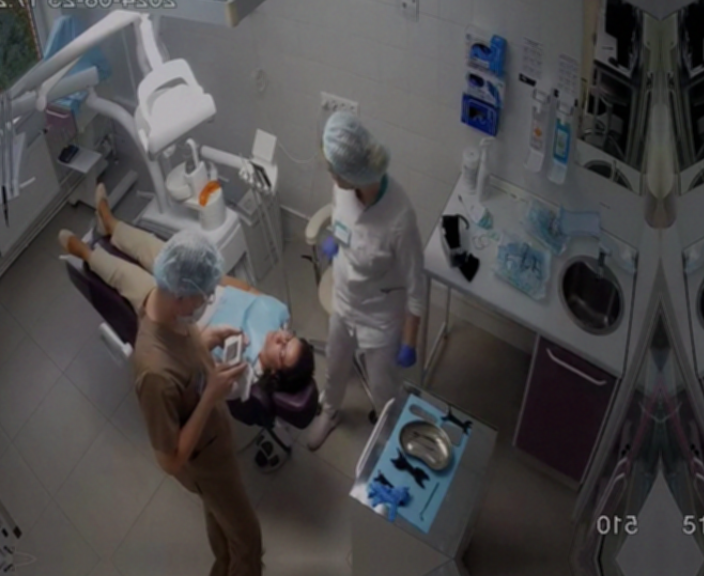Patient: (55, 181, 325, 430)
